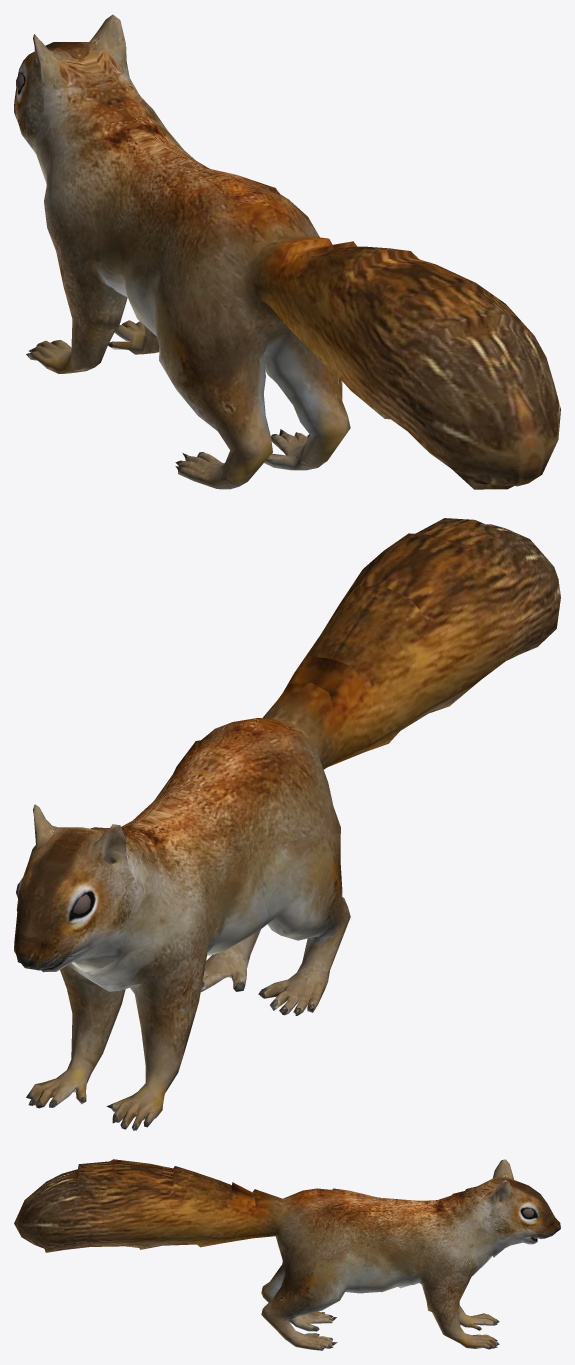
Rendered from squirrel.glb.
3 renders of one model, top to bottom at view 1: azimuth 30°, elevation 25°; view 2: azimuth 150°, elevation 25°; view 3: azimuth 270°, elevation 25°, orthographic. The views are drawn at different scales.
Visible parts, largest first — view 1: squirrel; view 2: squirrel; view 3: squirrel.
Boxes of the visible parts, x1,y1,x2,y2 form: squirrel: (14,14,560,489); squirrel: (14,518,560,1130); squirrel: (14,1159,560,1350).
Bounding box in the file's own units: 0.0864 × 0.1642 × 0.4801.
Materials: 1 (1 with a texture image).
